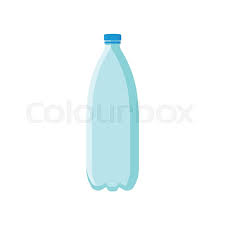unavailable: (83, 29, 145, 192)
